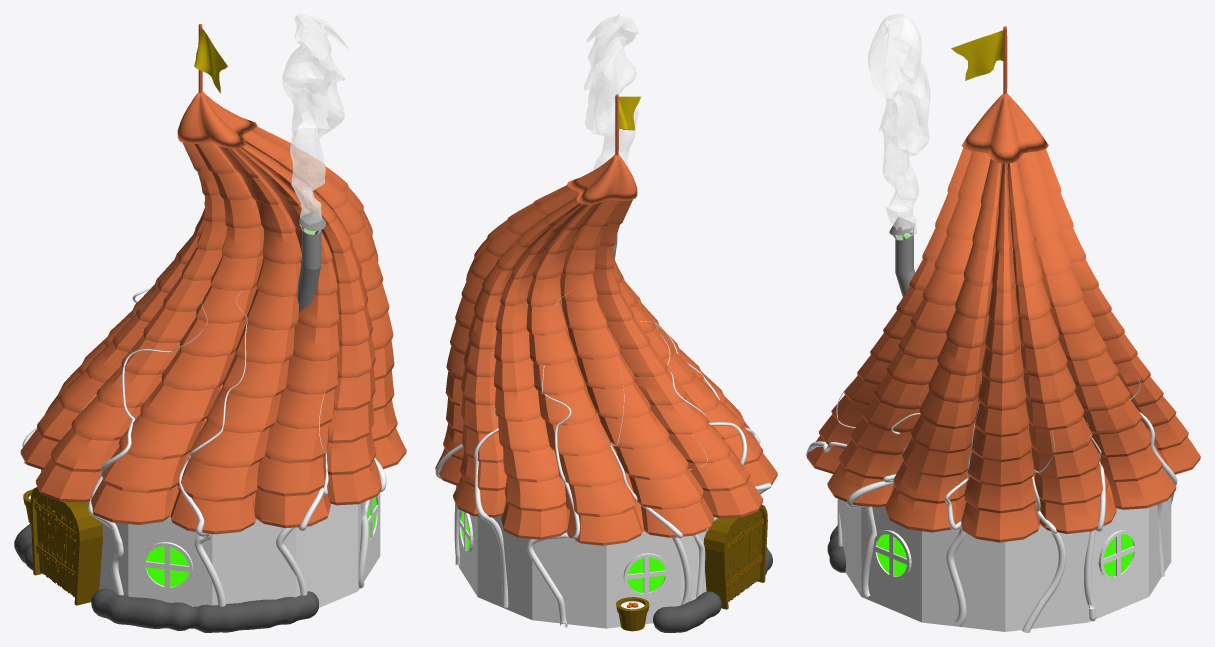
The model's file is gnome.glb.
3 renders of one model, left to right at view 1: azimuth 30°, elevation 25°; view 2: azimuth 150°, elevation 25°; view 3: azimuth 270°, elevation 25°, orthographic. The views are drawn at different scales.
Parts seen in each view (by area): view 1: casa; view 2: casa; view 3: casa.
Part boxes in pixels (<box>): casa: <box>14,14,406,632</box>; casa: <box>435,14,777,632</box>; casa: <box>806,14,1200,632</box>.
Size of the model in its own units: 0.869 by 1.39 by 0.8701.
